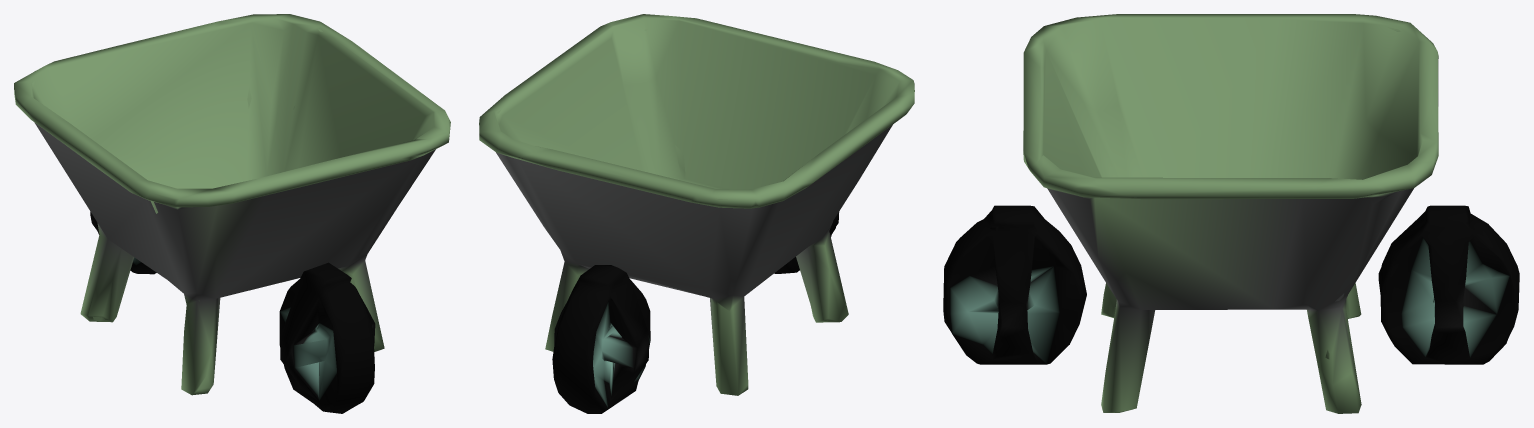
The model's file is gen3d-wheelbarrow-lod1.glb.
3 views of the same model, side by side, from view 1: azimuth 30°, elevation 25°; view 2: azimuth 150°, elevation 25°; view 3: azimuth 270°, elevation 25° (orthographic). The views are drawn at different scales.
Visible parts, largest first — view 1: part_0; view 2: part_0; view 3: part_0.
Part boxes in pixels (x1,y1,x2,y2): part_0: [14, 14, 450, 413]; part_0: [479, 14, 914, 413]; part_0: [943, 14, 1519, 413].
Bounding box in the file's own units: 1.42 × 0.9998 × 1.98.
